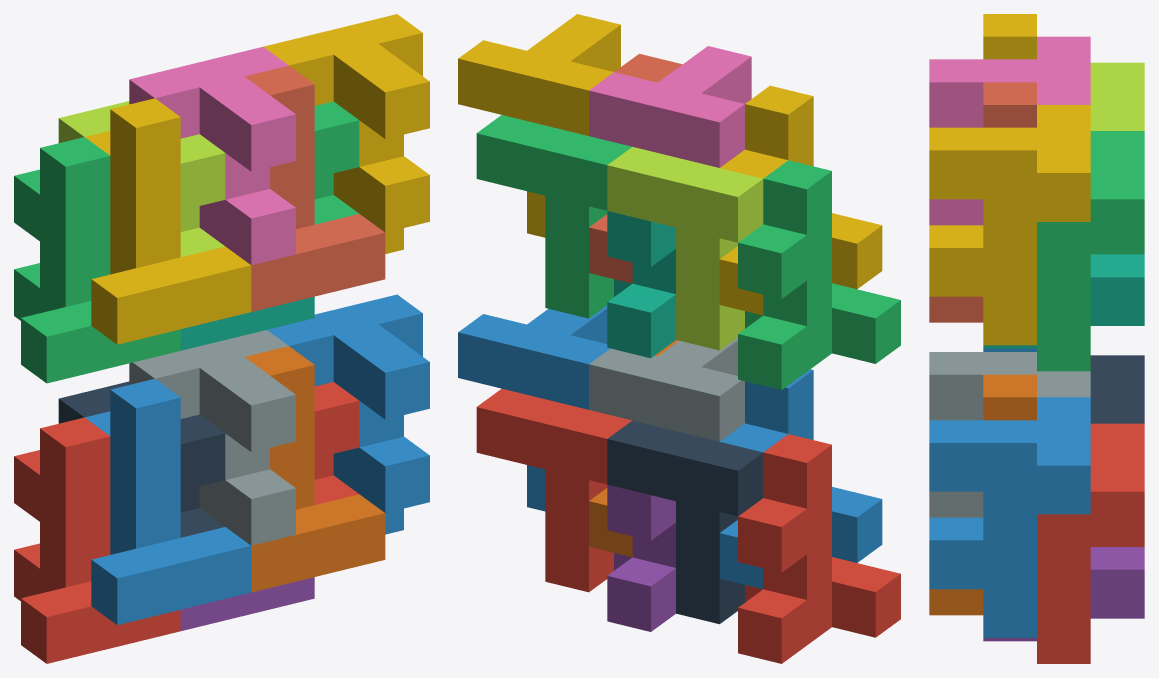
Rendered from tiling.obj.
The picture shows the model from 3 angles, left to right: view 1: azimuth 30°, elevation 25°; view 2: azimuth 150°, elevation 25°; view 3: azimuth 270°, elevation 25°; orthographic projection. The views are drawn at different scales.
Parts seen in each view (by area): view 1: copy_1_domain_4, copy_1_domain_2, copy_1_domain_3, copy_1_domain_1, copy_2_domain_8, copy_2_domain_6, copy_2_domain_4, copy_2_domain_2, copy_1_domain_6, copy_1_domain_8, copy_2_domain_1, copy_2_domain_3 (+4 smaller); view 2: copy_1_domain_1, copy_1_domain_3, copy_2_domain_1, copy_2_domain_3, copy_2_domain_7, copy_2_domain_5, copy_2_domain_4, copy_2_domain_8, copy_2_domain_2, copy_2_domain_6, copy_1_domain_4, copy_1_domain_2 (+4 smaller); view 3: copy_2_domain_6, copy_2_domain_8, copy_2_domain_5, copy_2_domain_7, copy_2_domain_4, copy_2_domain_2, copy_1_domain_5, copy_1_domain_7, copy_1_domain_6, copy_1_domain_8, copy_2_domain_1, copy_2_domain_3 (+3 smaller).
Boxes of the visible parts, bbox=[...] form: copy_1_domain_4: bbox=[85, 98, 251, 344]; copy_1_domain_2: bbox=[85, 379, 251, 625]; copy_1_domain_3: bbox=[14, 137, 180, 383]; copy_1_domain_1: bbox=[14, 417, 180, 663]; copy_2_domain_8: bbox=[263, 14, 429, 253]; copy_2_domain_6: bbox=[267, 294, 429, 534]; copy_2_domain_4: bbox=[129, 47, 295, 265]; copy_2_domain_2: bbox=[129, 330, 295, 545]; copy_1_domain_6: bbox=[245, 346, 385, 592]; copy_1_domain_8: bbox=[244, 65, 385, 311]; copy_2_domain_1: bbox=[58, 381, 225, 537]; copy_2_domain_3: bbox=[58, 101, 225, 257]; copy_1_domain_1: bbox=[738, 434, 900, 663]; copy_1_domain_3: bbox=[738, 160, 900, 390]; copy_2_domain_1: bbox=[607, 420, 763, 624]; copy_2_domain_3: bbox=[607, 147, 763, 350]; copy_2_domain_7: bbox=[476, 115, 631, 318]; copy_2_domain_5: bbox=[476, 388, 631, 592]; copy_2_domain_4: bbox=[589, 46, 751, 167]; copy_2_domain_8: bbox=[458, 14, 620, 237]; copy_2_domain_2: bbox=[589, 337, 744, 441]; copy_2_domain_6: bbox=[458, 305, 609, 511]; copy_1_domain_4: bbox=[719, 85, 882, 315]; copy_1_domain_2: bbox=[719, 369, 882, 588]; copy_2_domain_6: bbox=[929, 397, 1090, 637]; copy_2_domain_8: bbox=[929, 105, 1090, 345]; copy_2_domain_5: bbox=[1037, 423, 1144, 663]; copy_2_domain_7: bbox=[1037, 131, 1144, 371]; copy_2_domain_4: bbox=[929, 36, 1090, 225]; copy_2_domain_2: bbox=[929, 352, 1090, 517]; copy_1_domain_5: bbox=[983, 547, 1144, 641]; copy_1_domain_7: bbox=[983, 254, 1144, 348]; copy_1_domain_6: bbox=[929, 374, 1036, 615]; copy_1_domain_8: bbox=[929, 82, 1036, 322]; copy_2_domain_1: bbox=[1090, 355, 1144, 423]; copy_2_domain_3: bbox=[1090, 62, 1144, 130].
Size of the model in its own units: 9 by 11 by 4.
